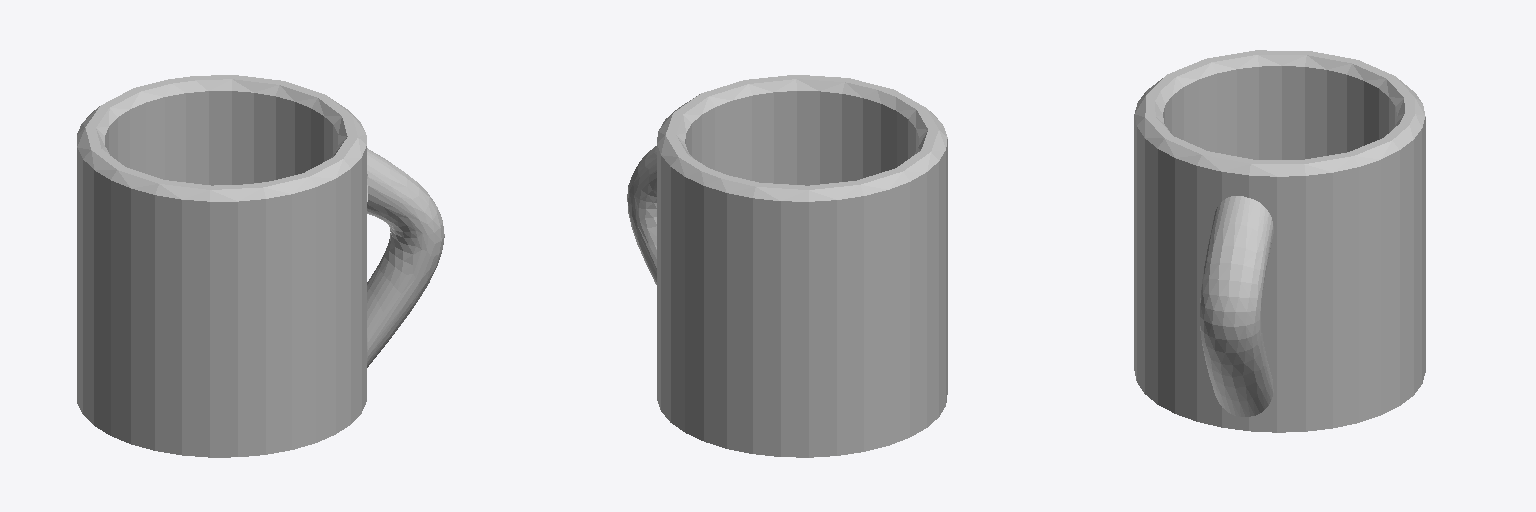
Rendered from mug.obj.
The picture shows the model from 3 angles: view 1: azimuth 30°, elevation 25°; view 2: azimuth 150°, elevation 25°; view 3: azimuth 270°, elevation 25°; orthographic projection.
Parts seen in each view (by area): view 1: Circle; view 2: Circle; view 3: Circle.
Part boxes in pixels (left/top/right/bottom): Circle: left=77, top=75, right=444, bottom=457; Circle: left=627, top=75, right=947, bottom=457; Circle: left=1134, top=50, right=1425, bottom=432.
Bounding box in the file's own units: 0.566 × 0.4452 × 0.4451.